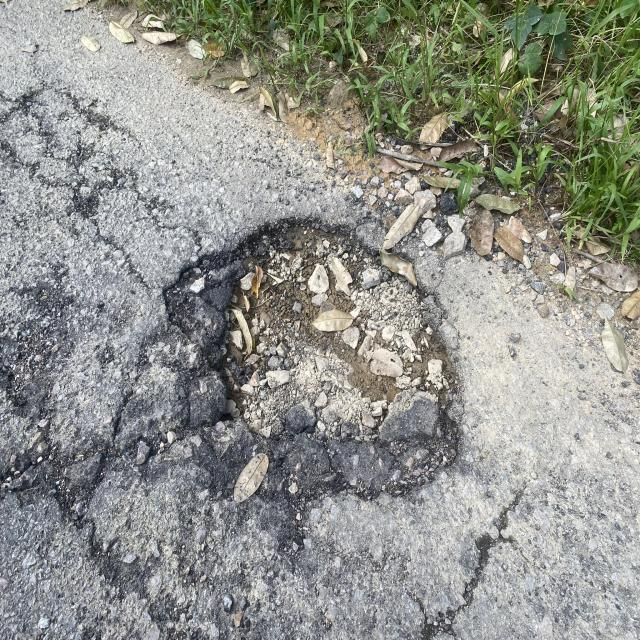Pothole: (134, 174, 505, 582)
